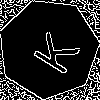K: (24, 24, 81, 77)
